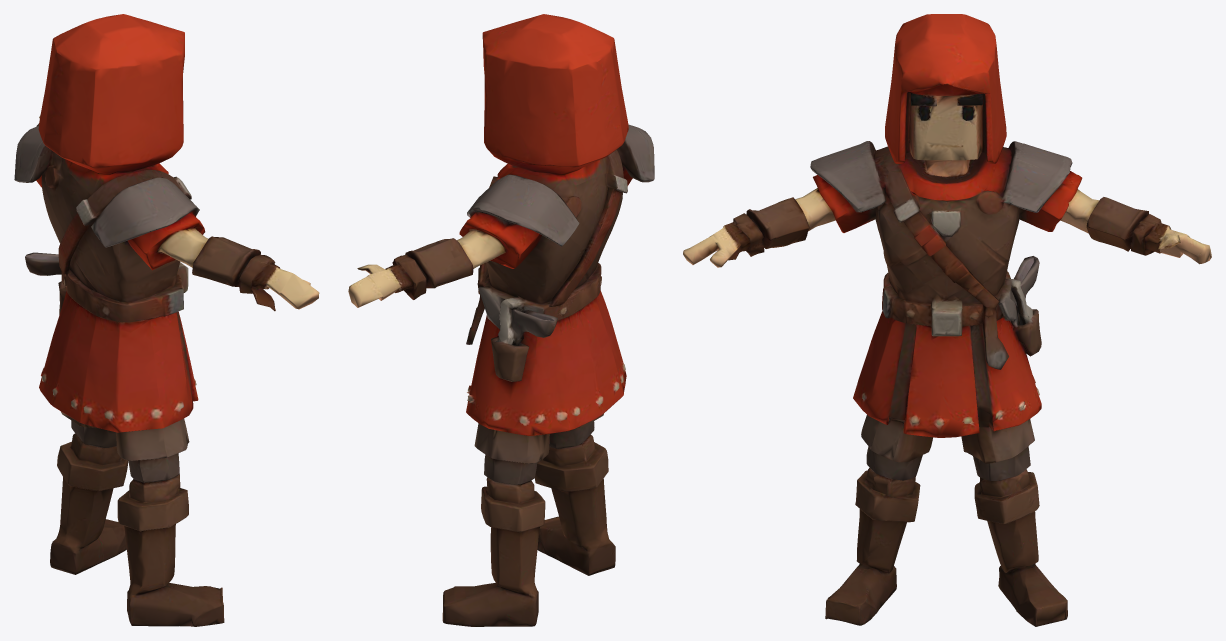
File: archer_a.glb
The picture shows the model from 3 angles, left to right: view 1: azimuth 30°, elevation 25°; view 2: azimuth 150°, elevation 25°; view 3: azimuth 270°, elevation 25°; orthographic projection.
Parts seen in each view (by area): view 1: tripo_node_9adb8f5f-d58b-4586-8367-cf303cc5318f; view 2: tripo_node_9adb8f5f-d58b-4586-8367-cf303cc5318f; view 3: tripo_node_9adb8f5f-d58b-4586-8367-cf303cc5318f.
Part boxes in pixels (bbox=[...]): tripo_node_9adb8f5f-d58b-4586-8367-cf303cc5318f: bbox=[14, 14, 319, 626]; tripo_node_9adb8f5f-d58b-4586-8367-cf303cc5318f: bbox=[348, 14, 654, 626]; tripo_node_9adb8f5f-d58b-4586-8367-cf303cc5318f: bbox=[683, 14, 1211, 626].
Size of the model in its own units: 0.2603 by 0.9775 by 0.8194.
1 material, 1 textured.
